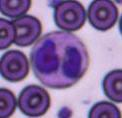N: (30, 30, 89, 88)
